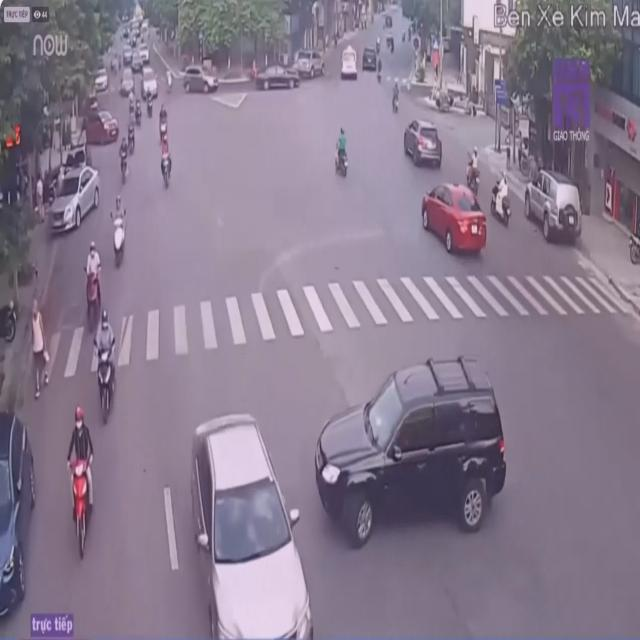car: (313, 358, 511, 542), (193, 410, 317, 640), (0, 413, 38, 627), (424, 183, 488, 260), (526, 164, 581, 242), (53, 162, 99, 230), (406, 117, 444, 170), (181, 64, 217, 94)
motorbike: (65, 403, 96, 562), (90, 311, 117, 428), (82, 247, 102, 332), (108, 195, 128, 267), (333, 126, 352, 181), (493, 177, 512, 229), (160, 135, 175, 191), (466, 148, 480, 196), (118, 135, 130, 184)
